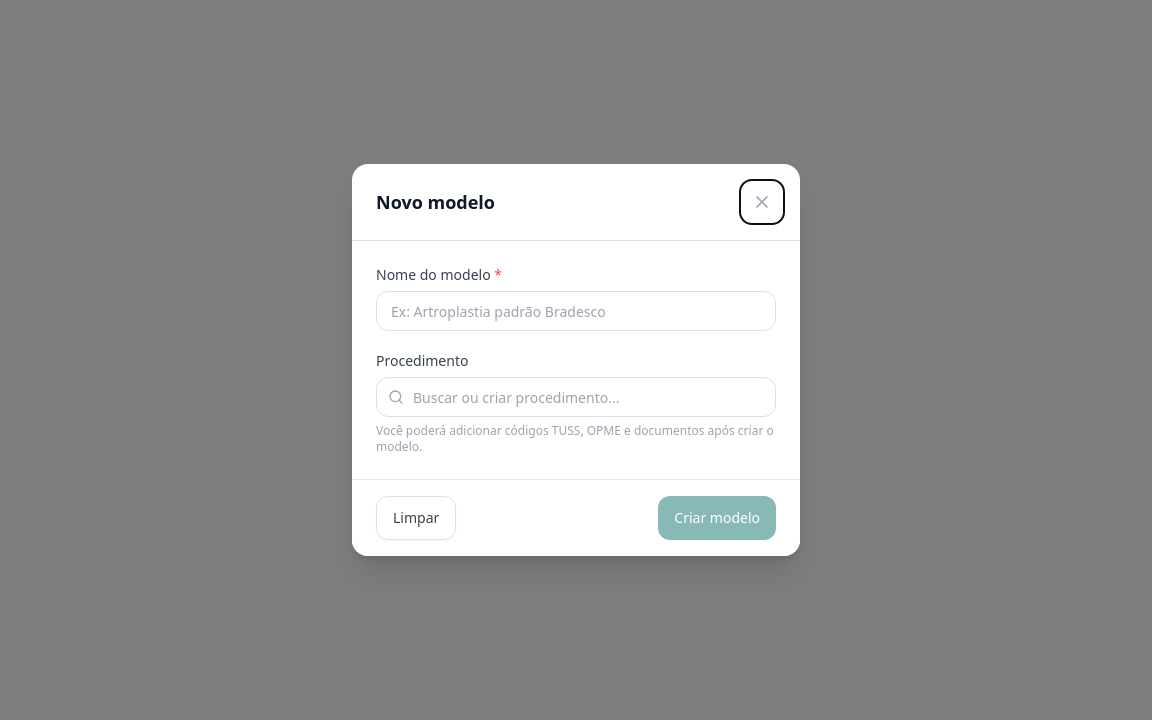
Test: NewProcedureModelModal — criação inline de procedimento › mostra a mensagem do backend quando a criação falha
Type "Artroscopia" into the field with placeholder "Buscar ou criar procedimento..." at (576, 397), box [376,377,776,417]
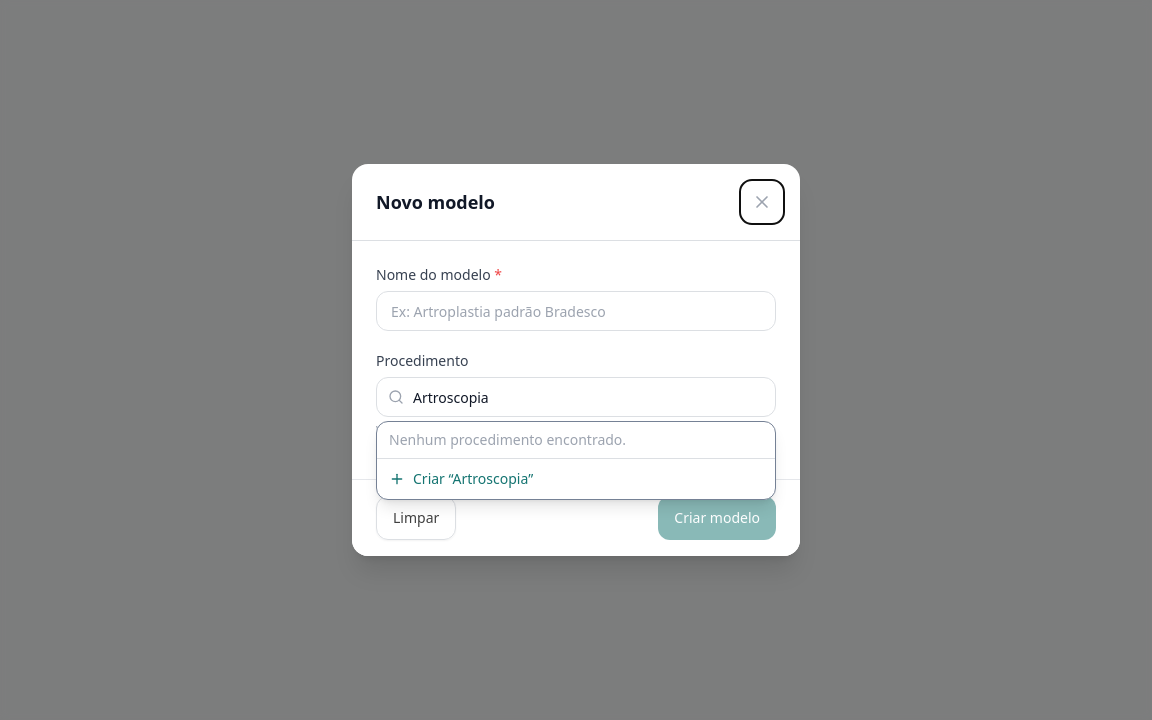
Click the button "Criar “Artroscopia”" at (433, 478), box [377,458,775,499]
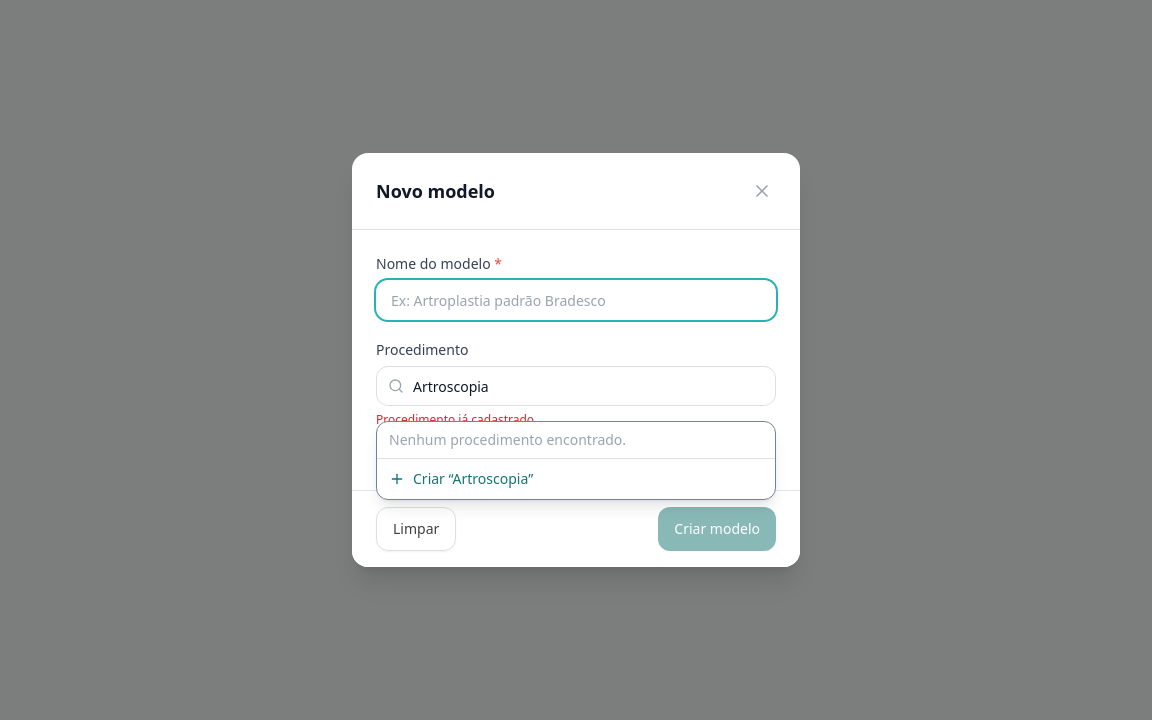
Expected: the message reads "Procedimento já cadastrado.", [376,411,537,428]
